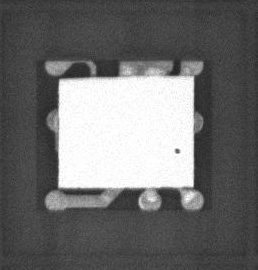DIE_INK: (164, 153, 174, 163)
